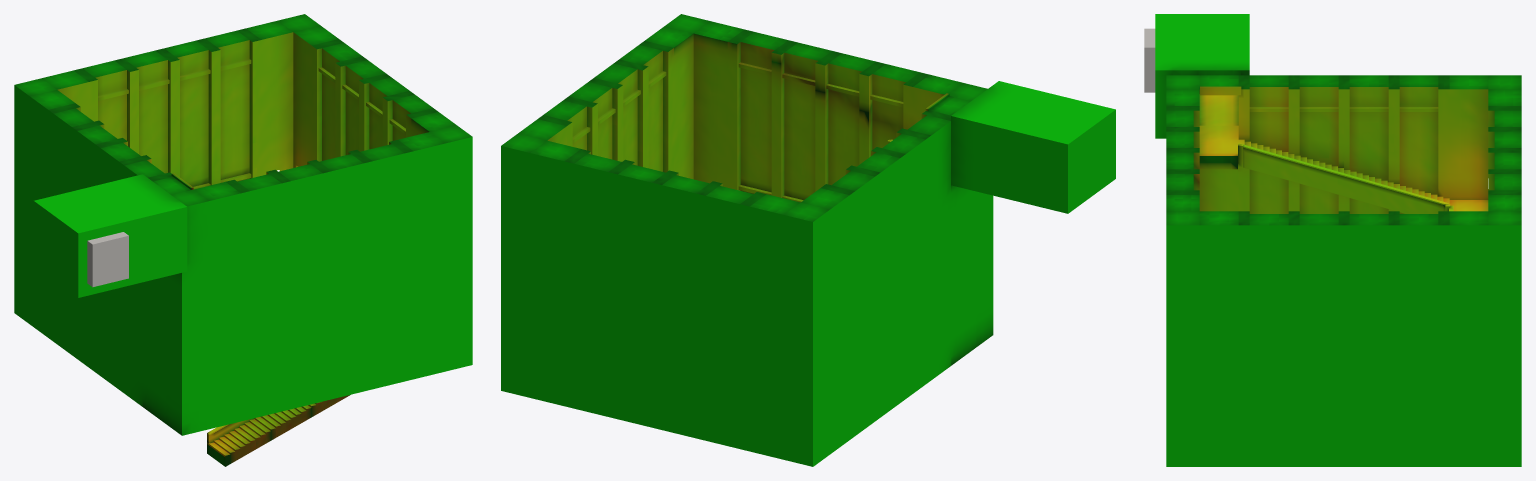
Rendered from stepwell.glb.
3 renders of one model, left to right at view 1: azimuth 30°, elevation 25°; view 2: azimuth 150°, elevation 25°; view 3: azimuth 270°, elevation 25°, orthographic. The views are drawn at different scales.
Parts seen in each view (by area): view 1: StepwellModule, StepwellCap; view 2: StepwellModule; view 3: StepwellModule, StepwellCap.
Part boxes in pixels (x1,y1,x2,y2): StepwellModule: (14,14,472,466); StepwellCap: (87,232,128,287); StepwellModule: (501,14,1115,466); StepwellModule: (1155,14,1521,466); StepwellCap: (1144,28,1155,92).
Size of the model in its own units: 44 by 30.5 by 34.
